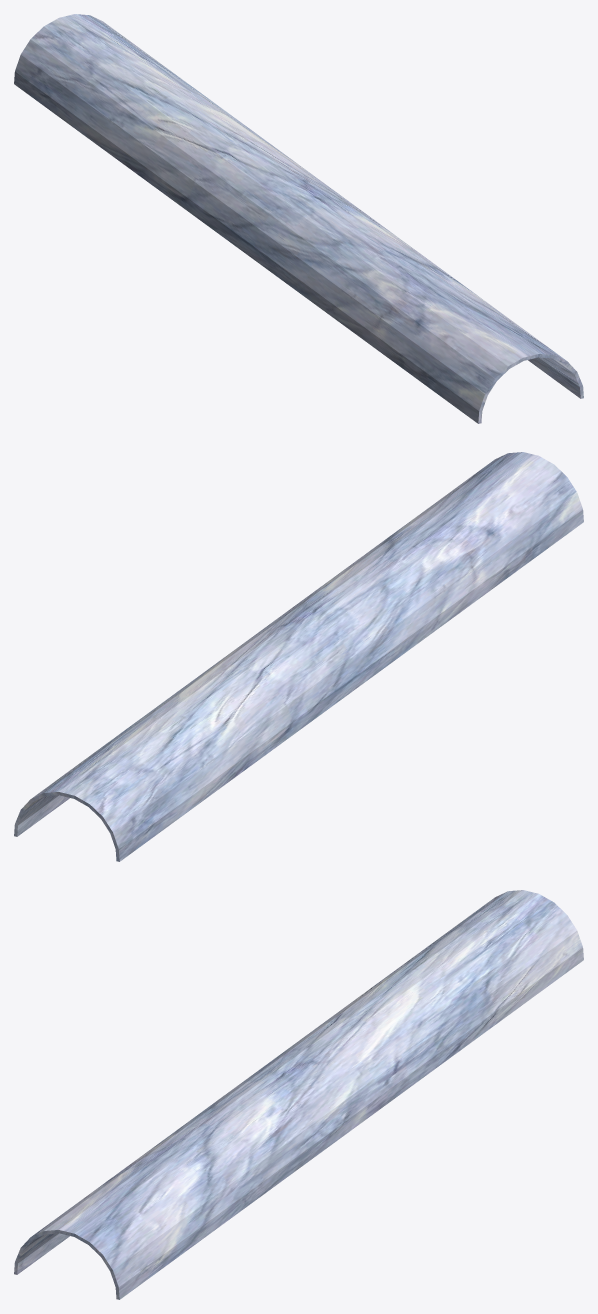
Rendered from tunnelMoinsSimple.obj.
3 views of the same model, one above another, from view 1: azimuth 30°, elevation 25°; view 2: azimuth 150°, elevation 25°; view 3: azimuth 330°, elevation 25° (orthographic).
Parts seen in each view (by area): view 1: Cylinder_Cylinder.001; view 2: Cylinder_Cylinder.001; view 3: Cylinder_Cylinder.001.
Boxes of the visible parts, <box> form: Cylinder_Cylinder.001: <box>14,14,583,423</box>; Cylinder_Cylinder.001: <box>14,452,583,861</box>; Cylinder_Cylinder.001: <box>14,890,583,1299</box>.
Bounding box in the file's own units: 13.42 × 6.71 × 102.
Materials: 1 (1 with a texture image).
